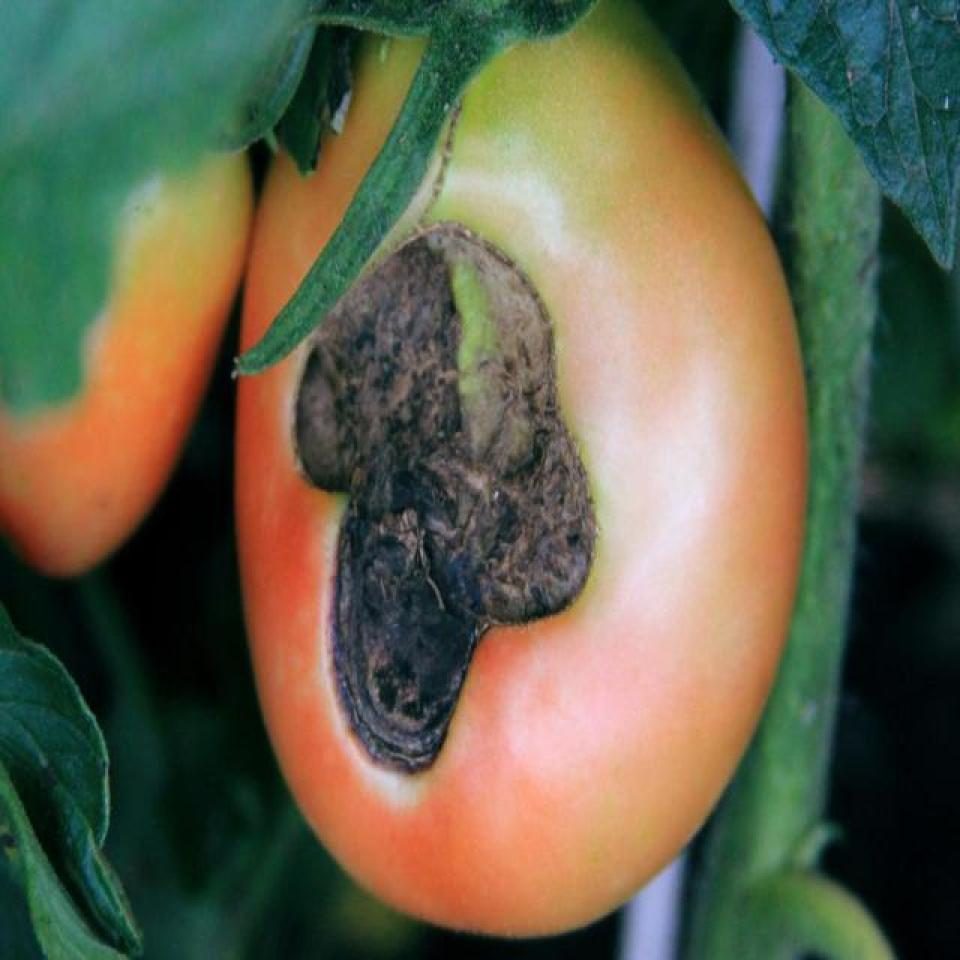Blossom_end_rot: (287, 218, 595, 779)
